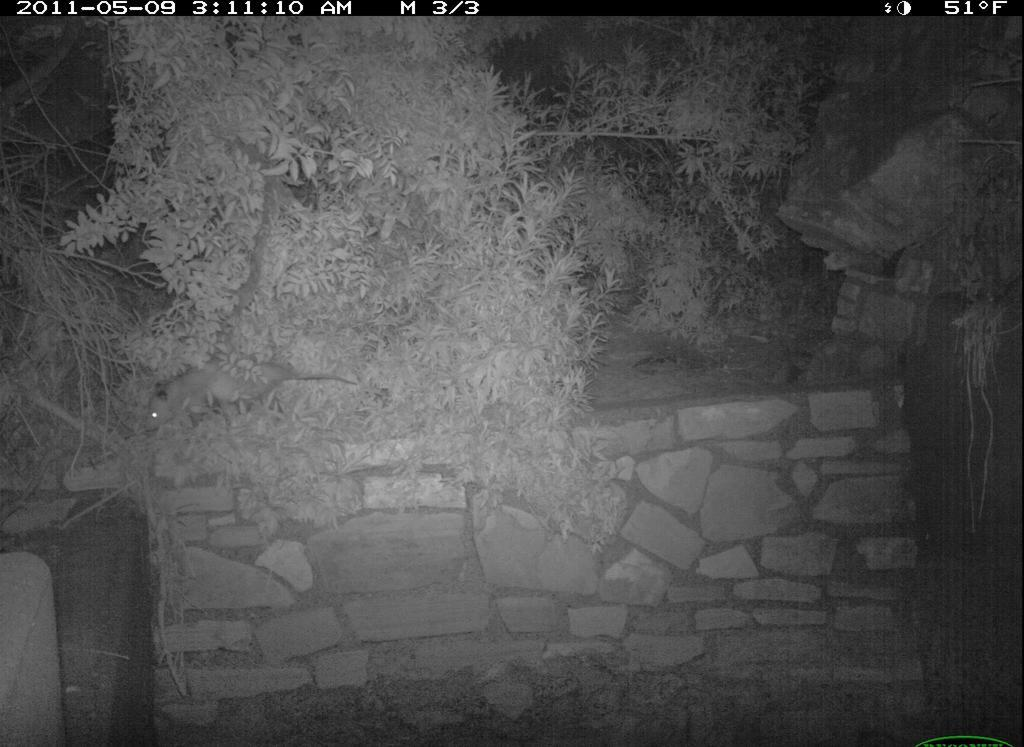opossum: (144, 354, 355, 446)
